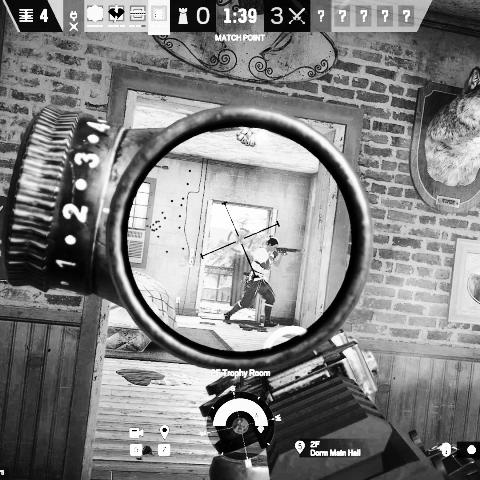Character: (222, 234, 304, 328)
Head: (265, 235, 279, 253)
